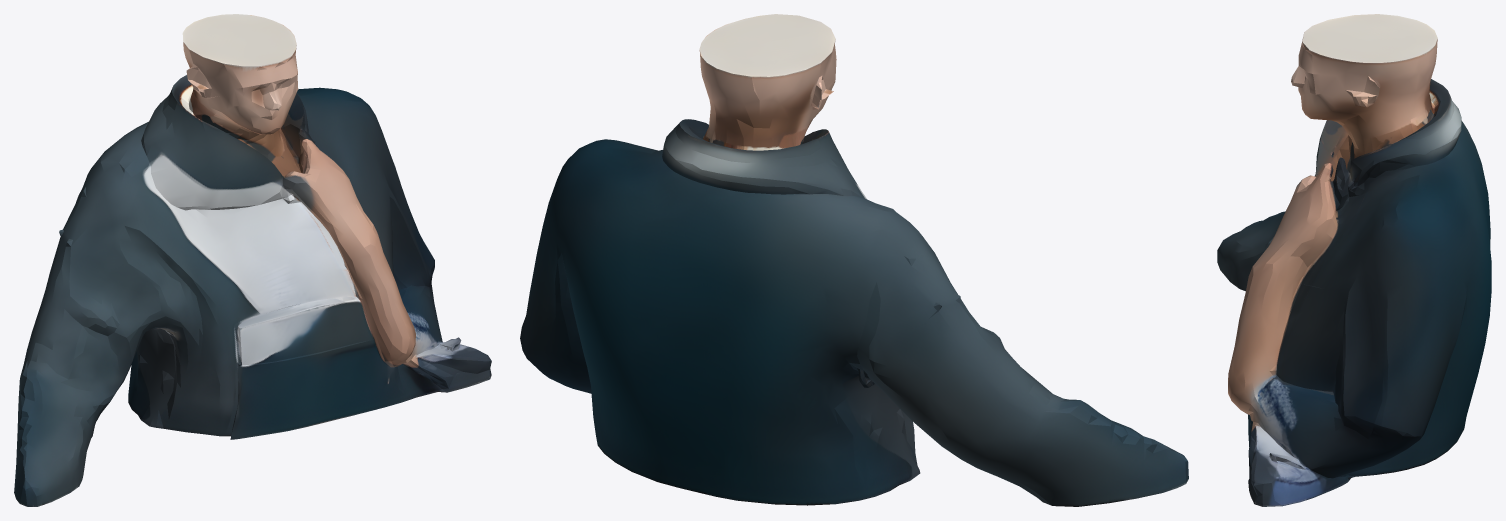
Rendered from example_mesh.glb.
The picture shows the model from 3 angles, left to right: view 1: azimuth 30°, elevation 25°; view 2: azimuth 150°, elevation 25°; view 3: azimuth 270°, elevation 25°; orthographic projection. The views are drawn at different scales.
Parts seen in each view (by area): view 1: model; view 2: model; view 3: model.
Part boxes in pixels (<box>): model: <box>14,14,491,506</box>; model: <box>520,14,1188,506</box>; model: <box>1217,14,1491,506</box>.
Bounding box in the file's own units: 1.9 × 1.29 × 0.8814.
1 material, 1 textured.
